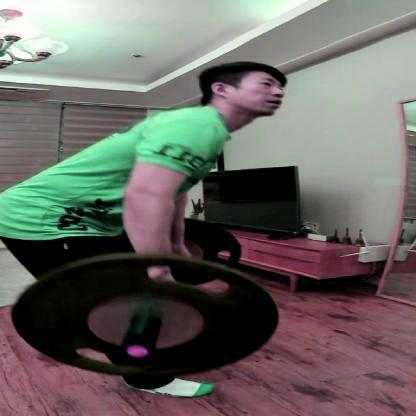Barbell: (112, 341, 159, 364)
